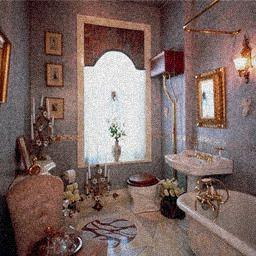Lavamanos: (163, 140, 230, 181)
Sanitario: (122, 173, 161, 213)
